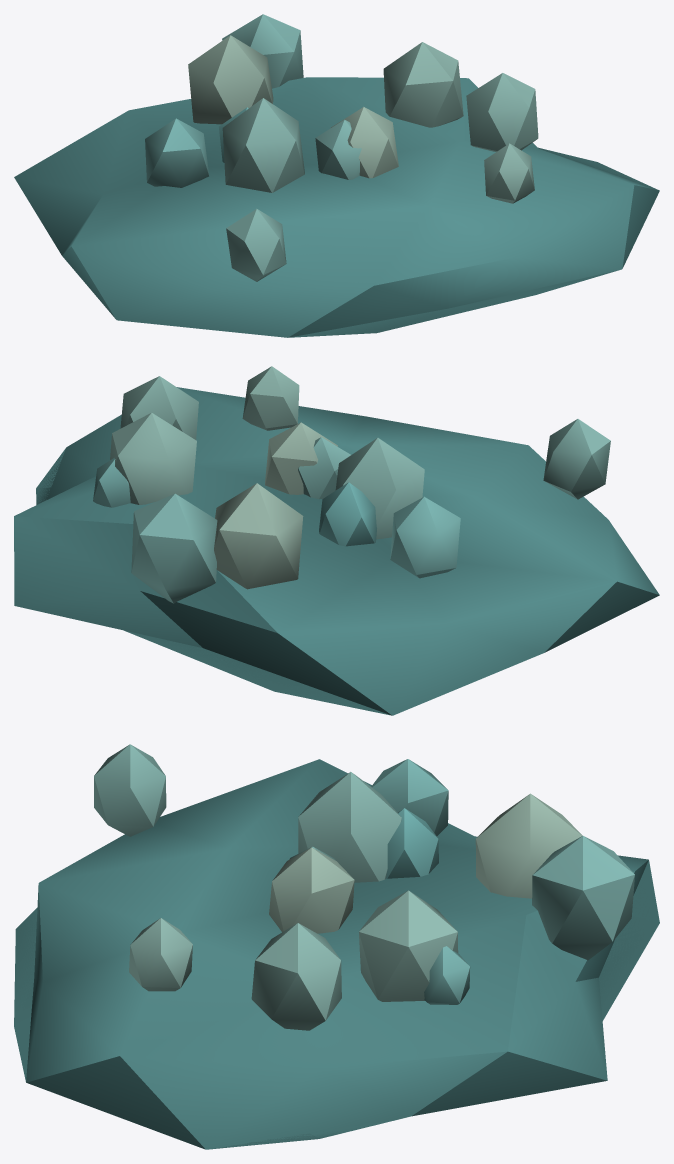
File: bell_moss.glb
The picture shows the model from 3 angles, top to bottom: view 1: azimuth 30°, elevation 25°; view 2: azimuth 150°, elevation 25°; view 3: azimuth 270°, elevation 25°; orthographic projection. The views are drawn at different scales.
Visible parts, largest first — view 1: bell_moss; view 2: bell_moss; view 3: bell_moss.
Boxes of the visible parts, x1,y1,x2,y2 form: bell_moss: (14,14,659,337); bell_moss: (14,366,659,715); bell_moss: (14,744,659,1149).
Bounding box in the file's own units: 1.38 × 0.3271 × 1.12.
